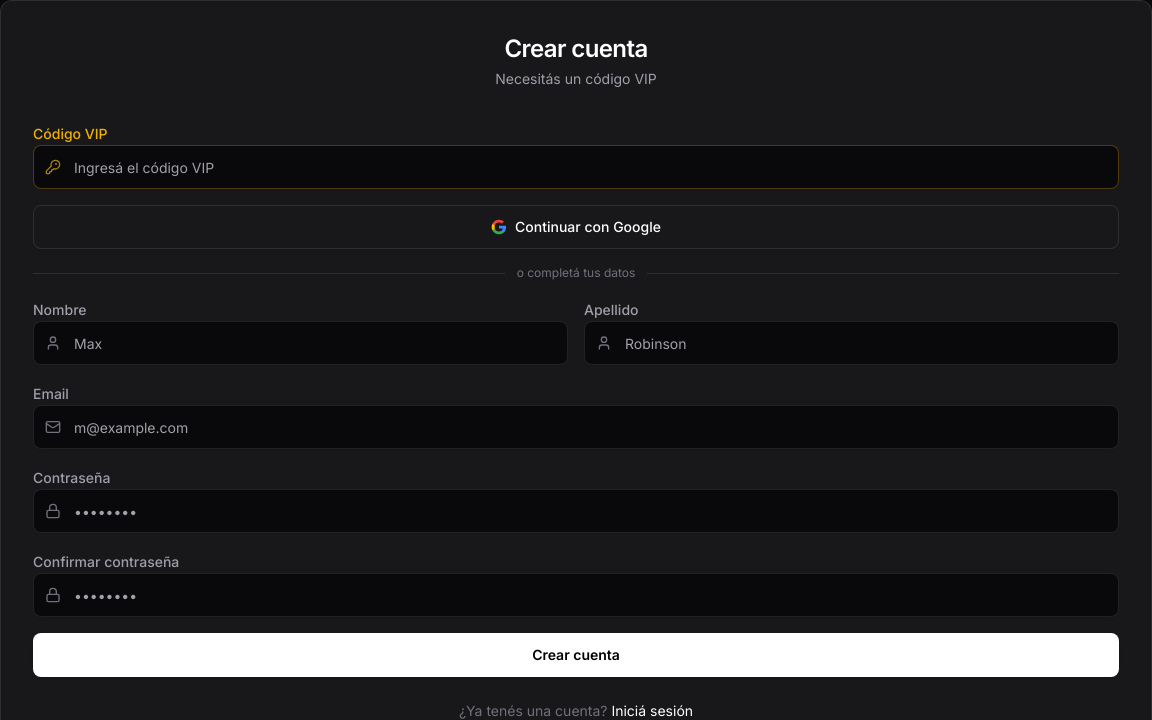
SignUpForm › maps an "email already in use" error onto the email field
Type "Ana" into the field labelled "Nombre".
click(300, 343); type("Ana")  # box [33,321,568,365]
Type "Pérez" into the field labelled "Apellido".
click(852, 343); type("Pérez")  # box [584,321,1119,365]
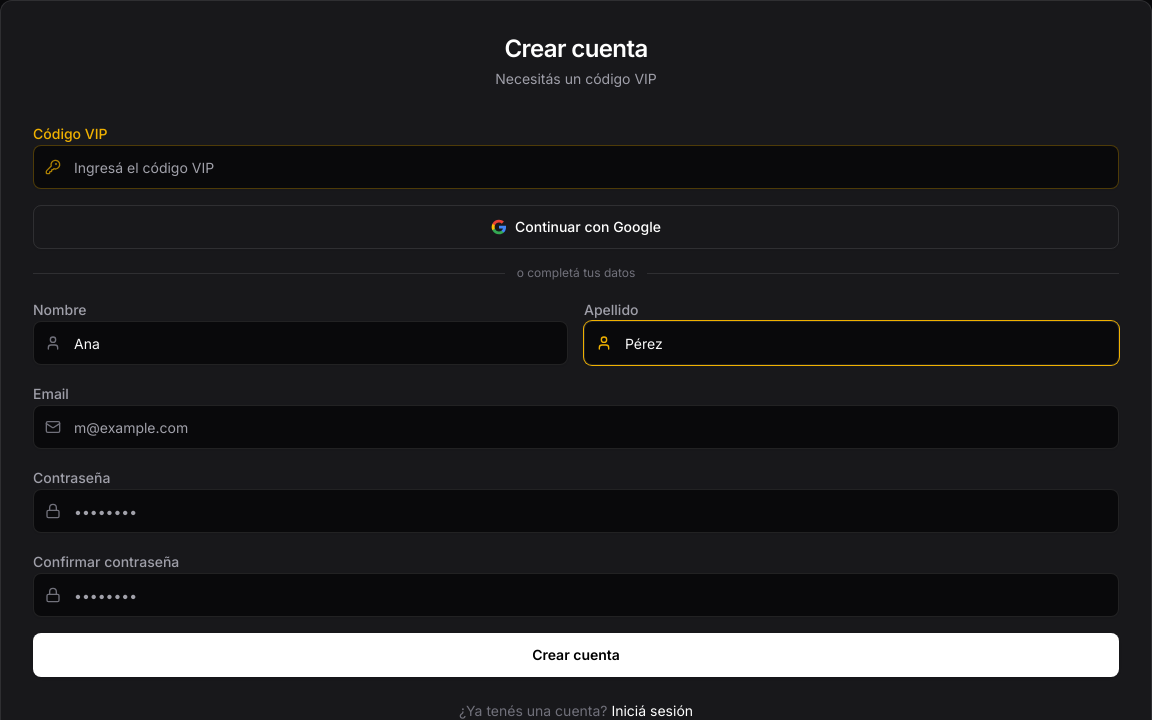
Type "ana@example.com" into the field labelled "Email".
click(576, 427); type("ana@example.com")  # box [33,405,1119,449]
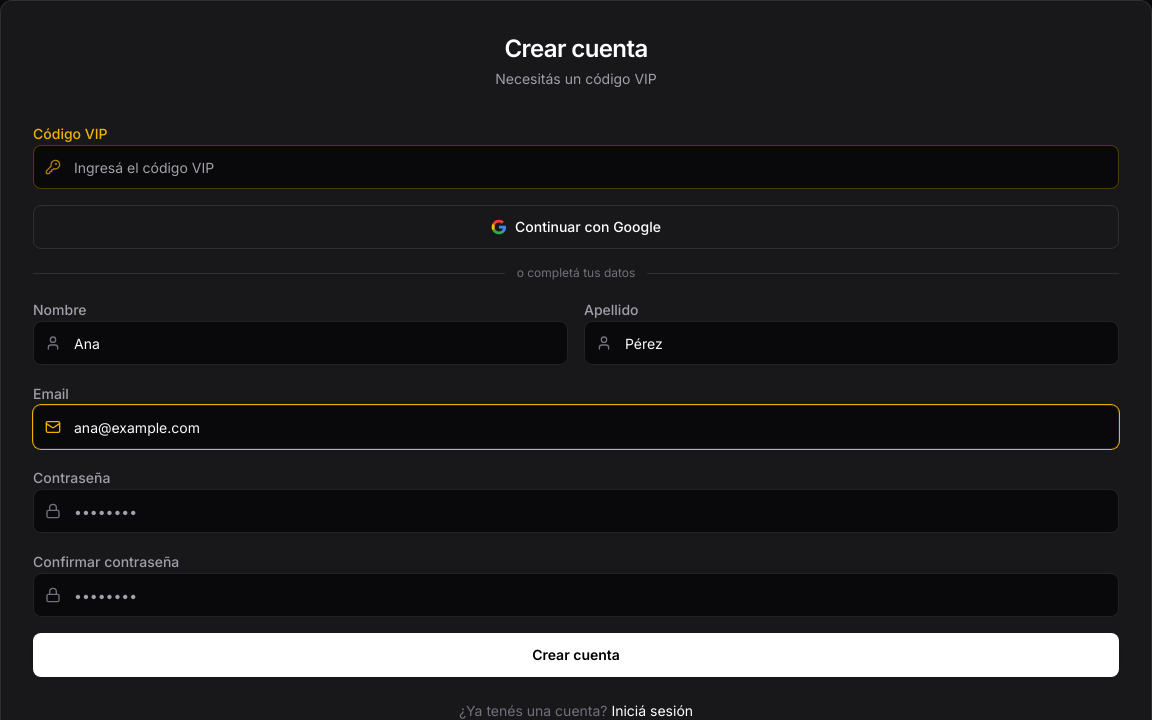
Type "supersecret" into the password field labelled "Contraseña".
click(576, 511); type("supersecret")  # box [33,489,1119,533]
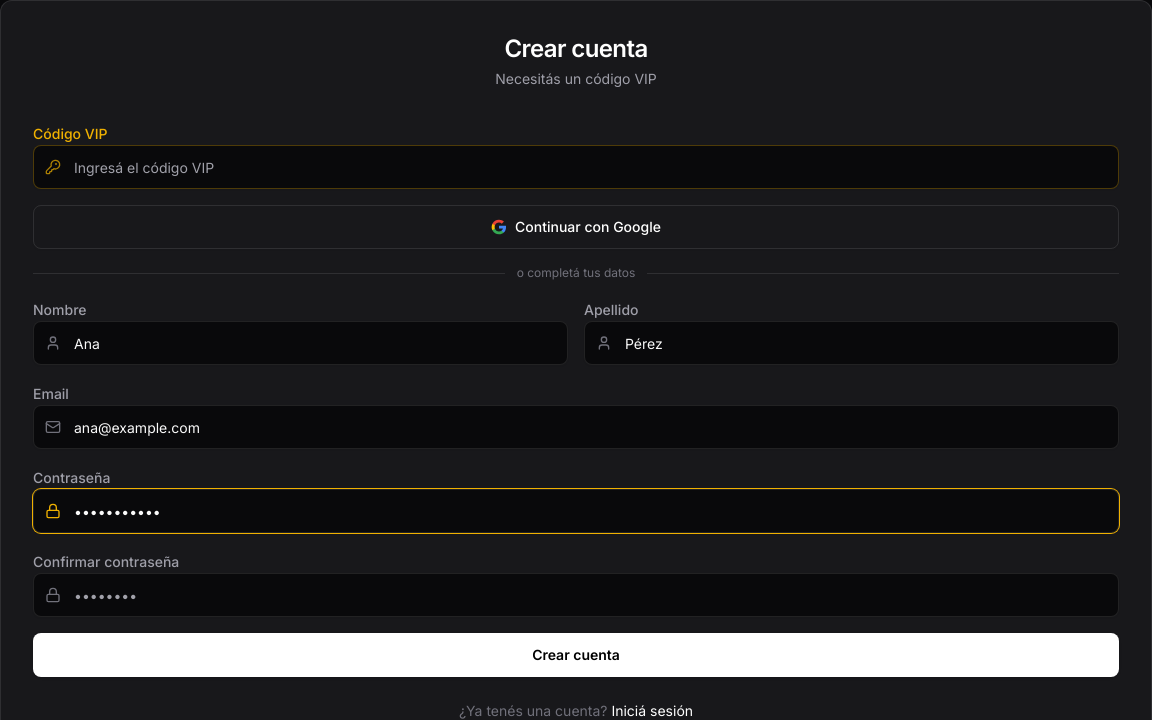
Type "supersecret" into the password field labelled "Confirmar contraseña".
click(576, 595); type("supersecret")  # box [33,573,1119,617]
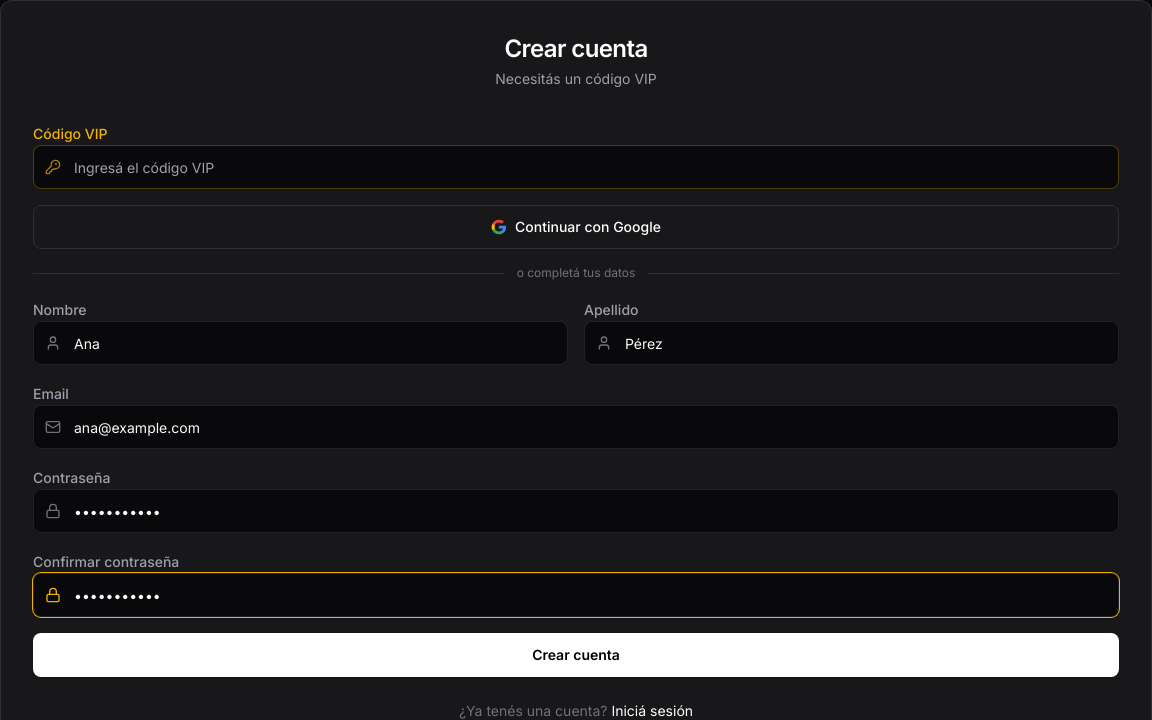
Type "vip" into the password field labelled "Código VIP".
click(576, 167); type("vip")  # box [33,145,1119,189]
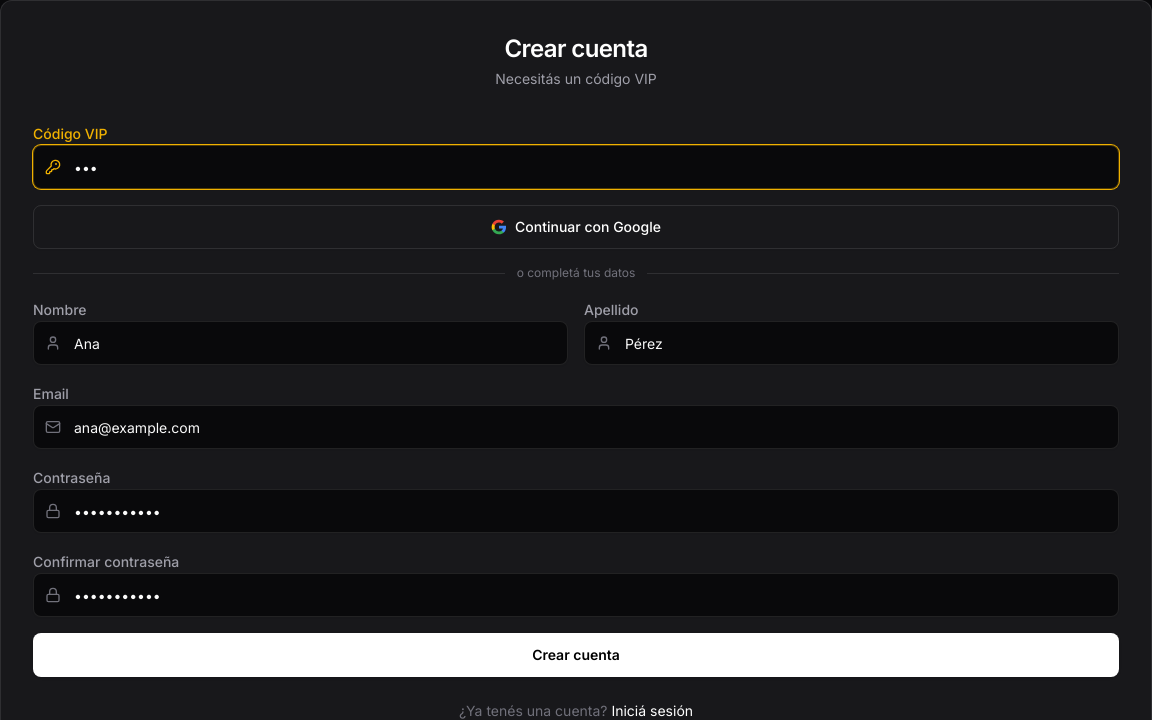
Click the button "Crear cuenta".
click(576, 655)  # box [33,633,1119,677]
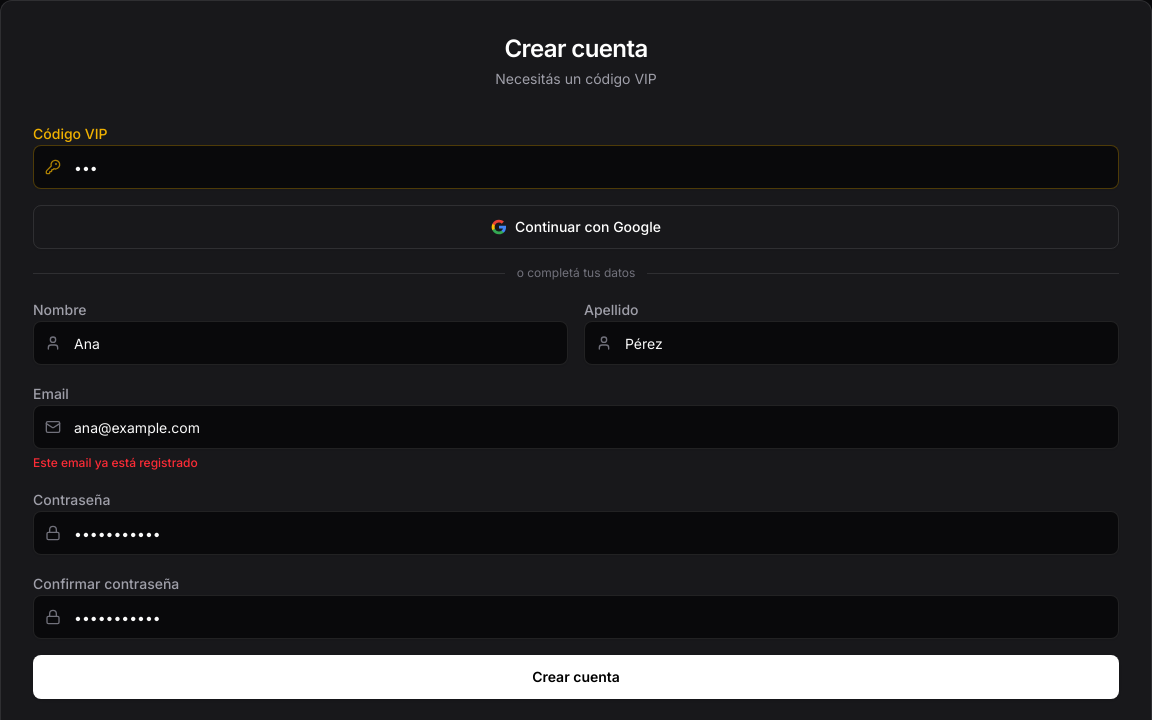
Expected: the text "Este email ya está registrado" is shown, [33,455,198,470]
